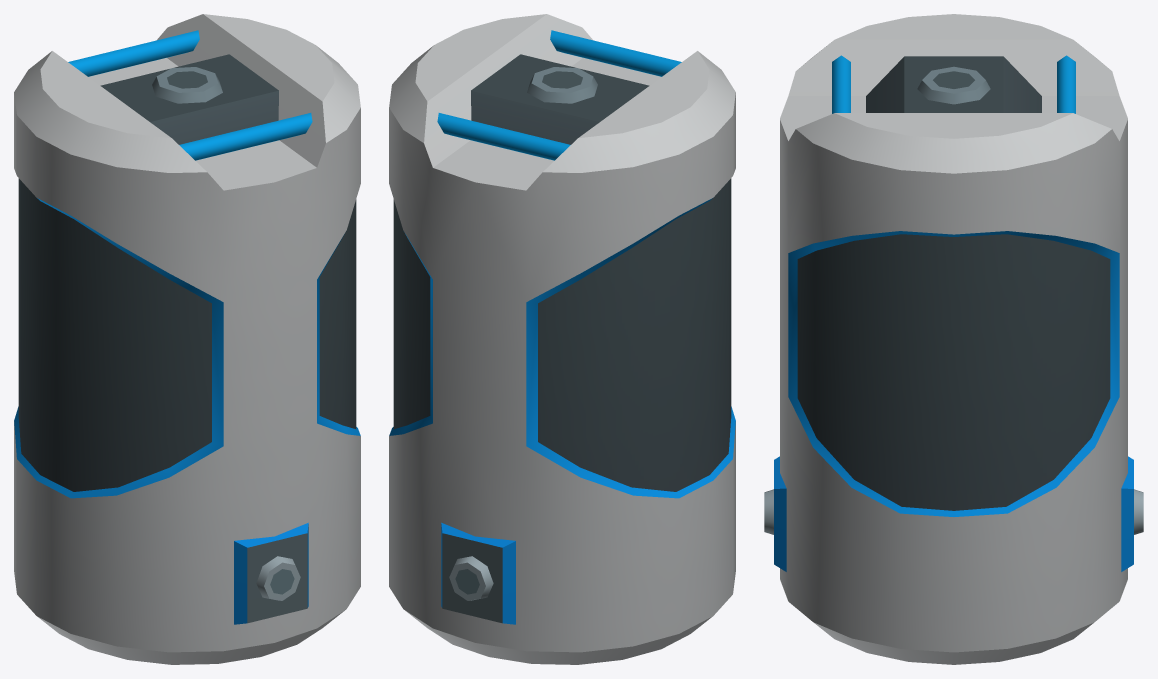
The model's file is Barrel_002.fbx.
3 views of the same model, side by side, from view 1: azimuth 30°, elevation 25°; view 2: azimuth 150°, elevation 25°; view 3: azimuth 270°, elevation 25° (orthographic).
Parts seen in each view (by area): view 1: Barrel_002; view 2: Barrel_002; view 3: Barrel_002.
Part boxes in pixels (x1,y1,x2,y2): Barrel_002: (14,14,360,664); Barrel_002: (389,14,735,664); Barrel_002: (764,14,1143,664).
Size of the model in its own units: 60 by 65.29 by 100.
